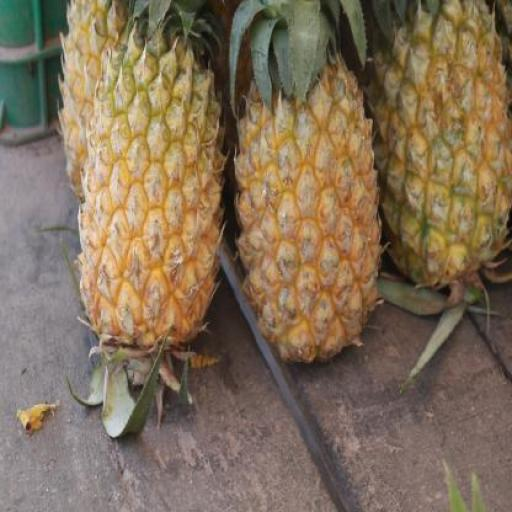------------------------------: (376, 7, 510, 287)
Pineapple - v8 v1: (91, 35, 235, 359), (241, 64, 390, 366)
